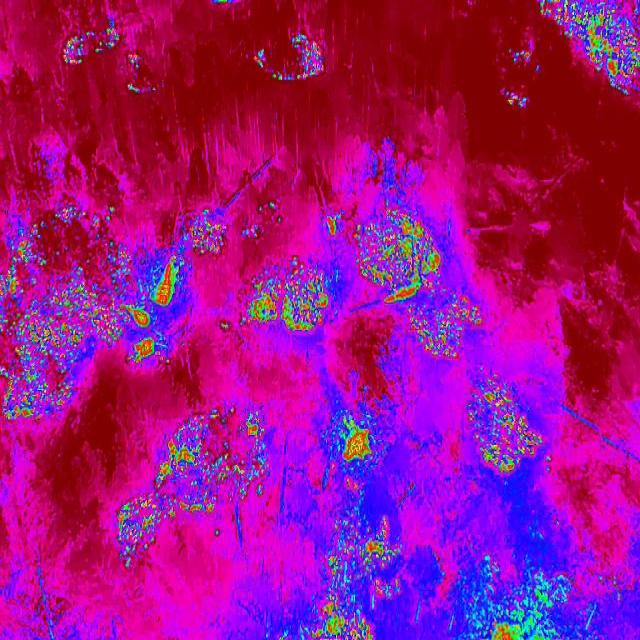fire: (0, 203, 191, 355), (314, 396, 416, 640), (447, 557, 585, 640), (170, 406, 272, 516), (468, 362, 550, 478), (348, 206, 444, 304), (242, 261, 332, 339), (410, 292, 488, 366), (116, 460, 170, 562), (0, 357, 77, 424), (594, 0, 640, 90), (186, 209, 228, 253), (561, 0, 594, 54), (540, 1, 561, 26)
